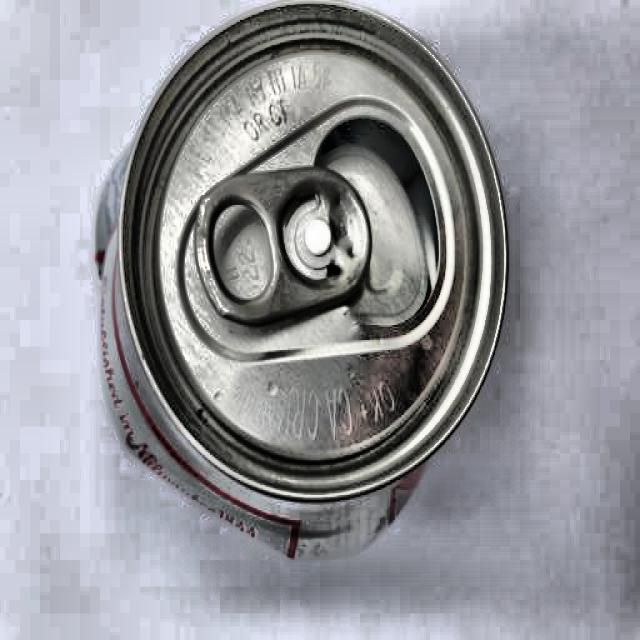metal: (94, 4, 518, 563)
